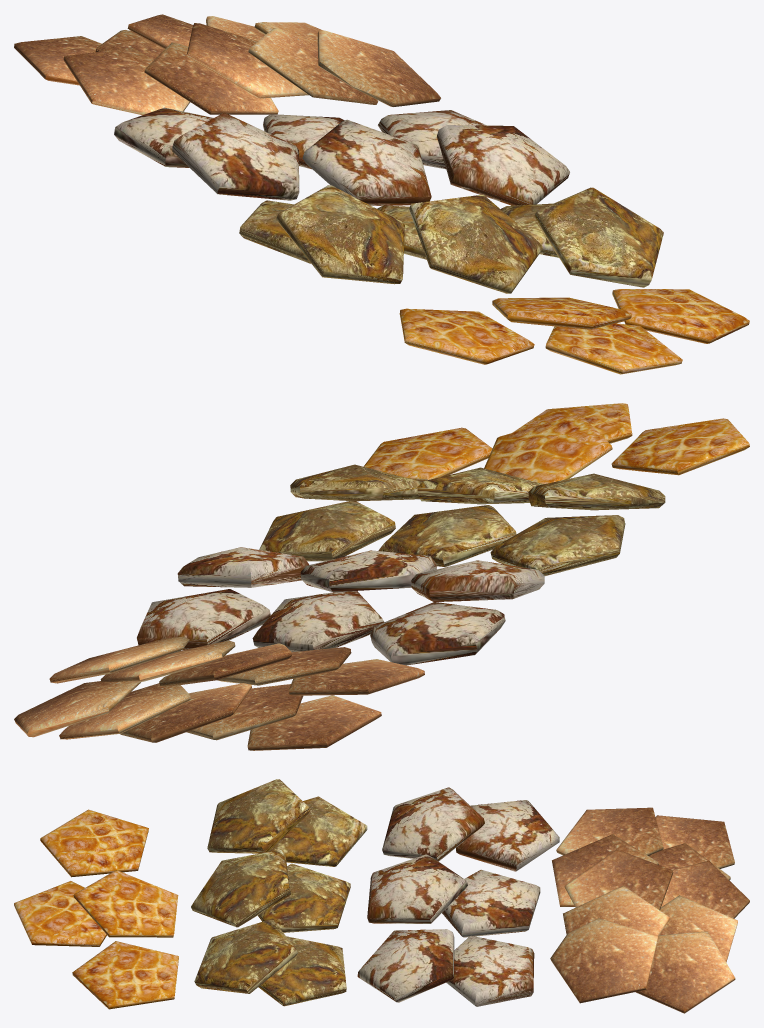
Rendered from bread_booth01_LOD03.fbx.
3 views of the same model, one above another, from view 1: azimuth 30°, elevation 25°; view 2: azimuth 150°, elevation 25°; view 3: azimuth 270°, elevation 25° (orthographic). The views are drawn at different scales.
Visible parts, largest first — view 1: Mesh Object; view 2: Mesh Object; view 3: Mesh Object.
Boxes of the visible parts, x1=… form: Mesh Object: x1=14, y1=14, x2=749, y2=374; Mesh Object: x1=14, y1=403, x2=749, y2=750; Mesh Object: x1=14, y1=779, x2=749, y2=1013.
Bounding box in the file's own units: 0.8547 × 0.2752 × 1.84.
